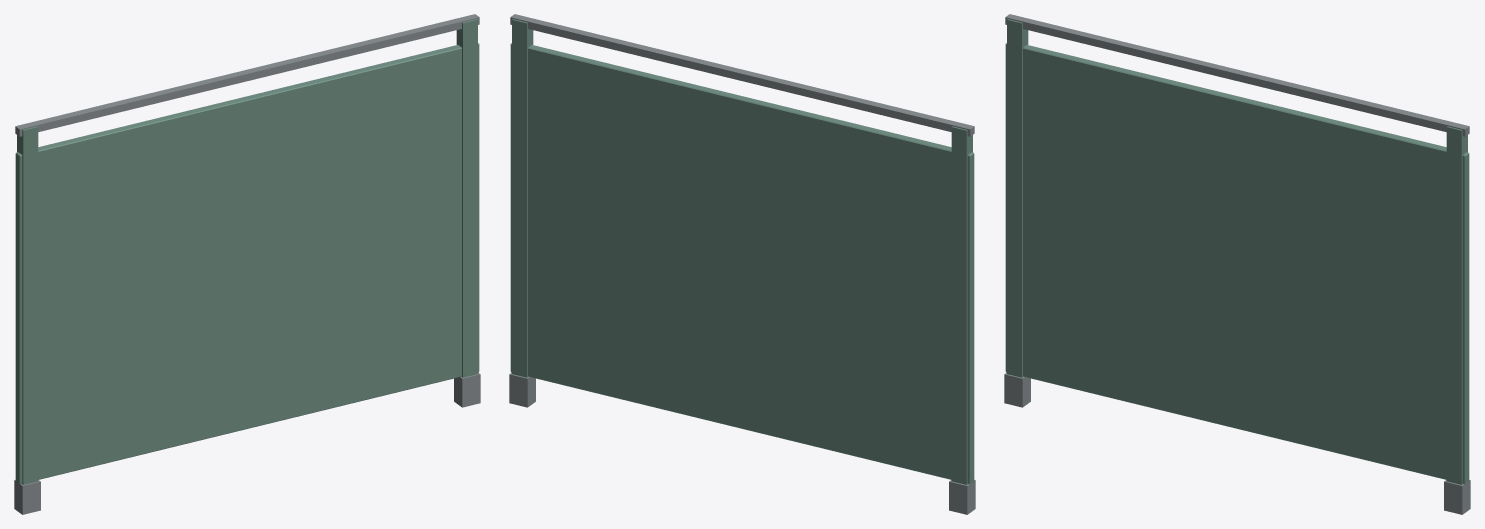
The model's file is restroom_stall_divider.glb.
3 views of the same model, side by side, from view 1: azimuth 30°, elevation 25°; view 2: azimuth 150°, elevation 25°; view 3: azimuth 330°, elevation 25° (orthographic).
Parts seen in each view (by area): view 1: restroom_stall_divider; view 2: restroom_stall_divider; view 3: restroom_stall_divider.
Part boxes in pixels (x1,y1,x2,y2): restroom_stall_divider: [14, 14, 480, 514]; restroom_stall_divider: [509, 14, 975, 514]; restroom_stall_divider: [1004, 14, 1470, 514].
Bounding box in the file's own units: 2.5 × 2 × 0.078.
2 materials, 2 textured.
